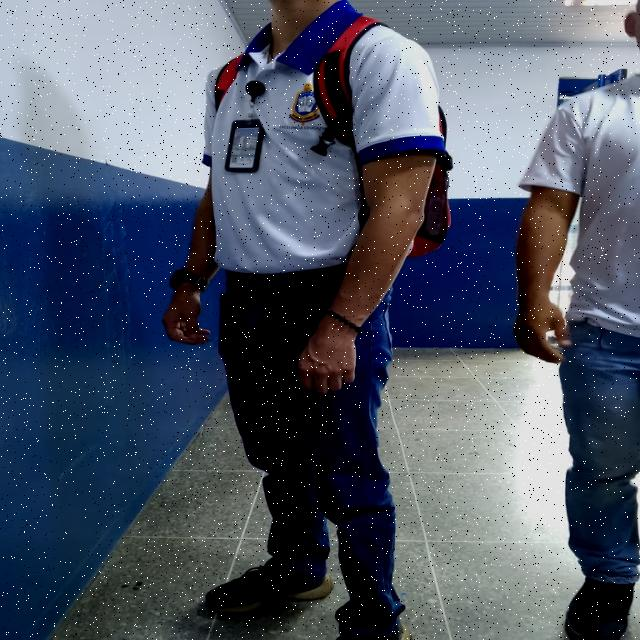carnet: (230, 128, 259, 168)
pantalon_oscuro: (218, 270, 405, 628)
uniforme_superior: (202, 0, 444, 273)
